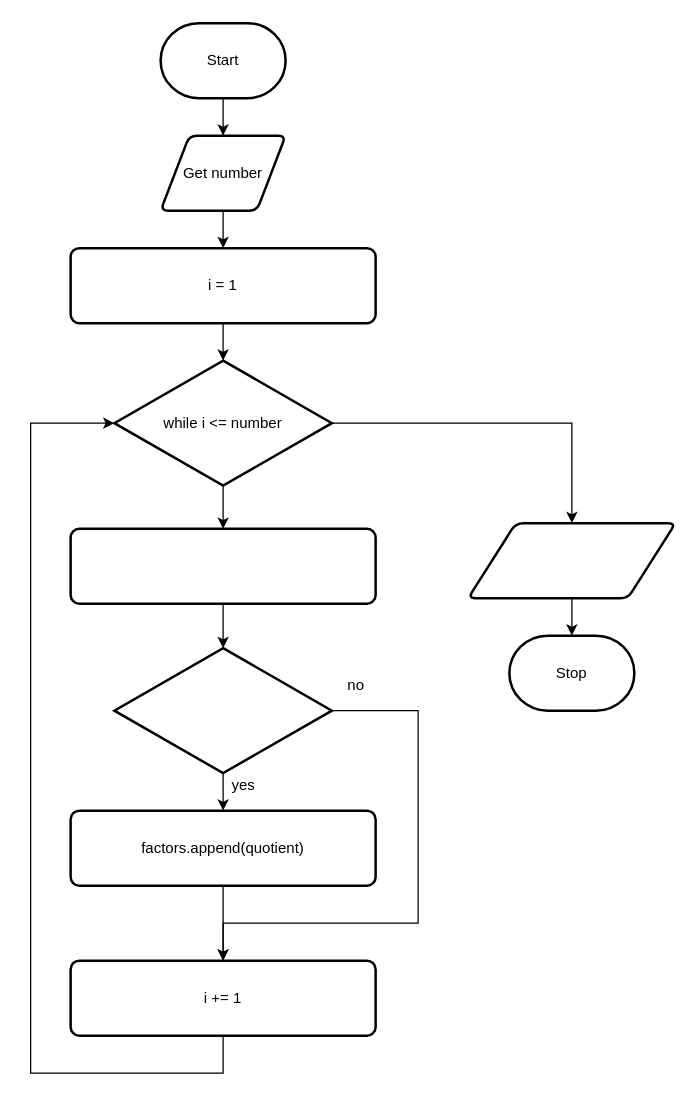
The diagram is 699 pixels wide and 1105 high, and some of its shapes have lost their labels. The shapes that lost their labels are listed below. From the top down, each one's box as (x1, y1, x2, y2) in pixels, then its label:
(69, 527, 376, 604): is_factor = number % i
(466, 521, 676, 599): Return factors
(112, 646, 332, 774): if is_factor == 0
